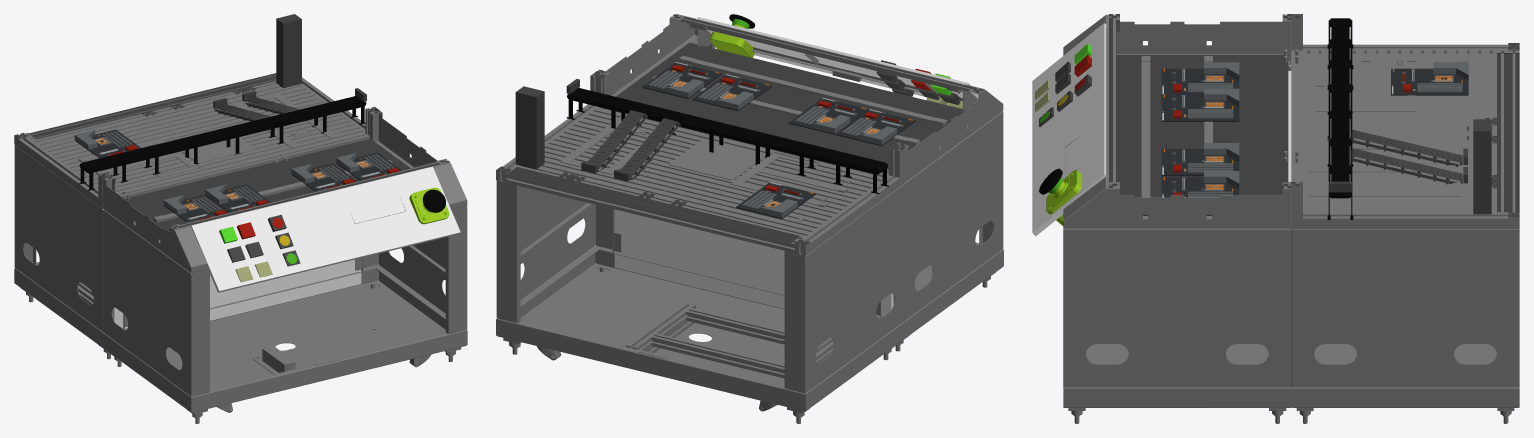
File: cajita final.fbx
3 views of the same model, side by side, from view 1: azimuth 30°, elevation 25°; view 2: azimuth 150°, elevation 25°; view 3: azimuth 270°, elevation 25° (orthographic). The views are drawn at different scales.
Parts seen in each view (by area): view 1: jaula, Box003, Box002, Cylinder001_Material__0_0, Box001, Box020, Object_3, Object_031, Object_026, Object_020, Object_014, Object_7 (+8 smaller); view 2: jaula, Box002, Box001, Cylinder001_Material__0_0, Box003, Box020, Cylinder001_Material__0_001, Cylinder001_Material__0_002, Object_027, Object_001, Object_7, Object_015 (+7 smaller); view 3: jaula, Box002, Box003, Cylinder001_Material__0_0, Box020, Cylinder001_Material__0_001, Cylinder001_Material__0_002, Object_027, Object_009, Object_015, Object_001, Object_031 (+6 smaller).
Part boxes in pixels (bbox=[...]): jaula: bbox=[14, 73, 467, 423]; Box003: bbox=[191, 166, 460, 292]; Box002: bbox=[125, 139, 410, 230]; Cylinder001_Material__0_0: bbox=[78, 96, 366, 190]; Box001: bbox=[112, 259, 361, 330]; Box020: bbox=[276, 14, 301, 88]; Object_3: bbox=[409, 187, 449, 224]; Object_031: bbox=[74, 130, 132, 156]; Object_026: bbox=[336, 153, 394, 178]; Object_020: bbox=[291, 163, 349, 189]; Object_014: bbox=[205, 185, 263, 210]; Object_7: bbox=[163, 195, 221, 220]; jaula: bbox=[496, 14, 1003, 423]; Box002: bbox=[616, 42, 966, 170]; Box001: bbox=[614, 209, 893, 318]; Cylinder001_Material__0_0: bbox=[566, 88, 888, 194]; Box003: bbox=[696, 17, 978, 101]; Box020: bbox=[515, 86, 544, 169]; Cylinder001_Material__0_001: bbox=[620, 118, 680, 179]; Cylinder001_Material__0_002: bbox=[587, 110, 647, 171]; Object_027: bbox=[736, 183, 815, 218]; Object_001: bbox=[835, 110, 915, 146]; Object_7: bbox=[842, 112, 903, 145]; Object_015: bbox=[692, 75, 772, 111]; jaula: bbox=[1063, 14, 1519, 423]; Box002: bbox=[1116, 55, 1288, 215]; Box003: bbox=[1032, 23, 1106, 236]; Cylinder001_Material__0_0: bbox=[1327, 18, 1353, 219]; Box020: bbox=[1473, 119, 1491, 214]; Cylinder001_Material__0_001: bbox=[1351, 130, 1462, 166]; Cylinder001_Material__0_002: bbox=[1351, 148, 1462, 184]; Object_027: bbox=[1391, 68, 1468, 95]; Object_009: bbox=[1161, 94, 1239, 121]; Object_015: bbox=[1161, 149, 1239, 176]; Object_001: bbox=[1161, 68, 1239, 94]; Object_031: bbox=[1392, 62, 1468, 92].
Size of the model in its own units: 44.93 by 35.11 by 52.63.
